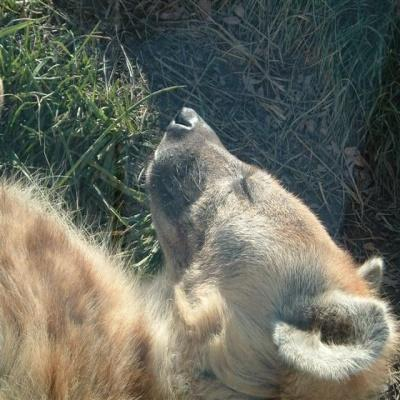hyenas: (0, 64, 400, 400)
